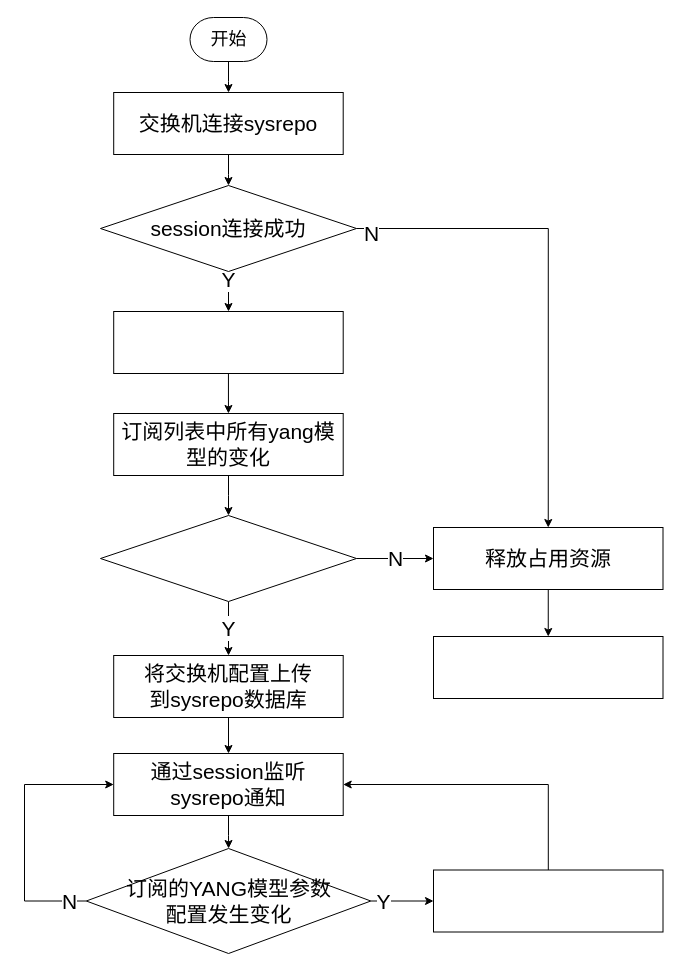
The diagram is 681 pixels wide and 971 high, and some of its shapes have lost their labels. Each missing label, with the centre of its shape:
"交换机对整形器配置进行更改" goes at (x=547, y=900).
"交换机退出" goes at (x=547, y=667).
"获取订阅的yang模型 列表" goes at (x=228, y=342).
"订阅成功" goes at (x=228, y=558).
